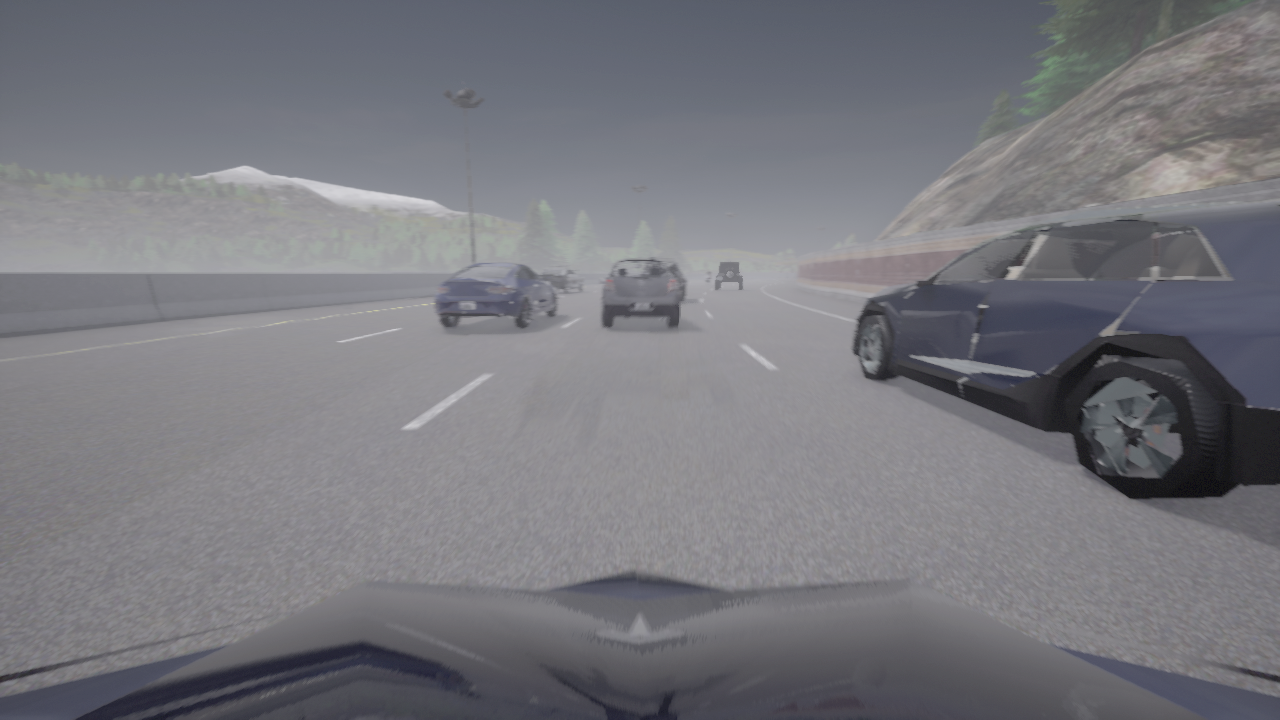cyclist: (0, 569, 1279, 719), (850, 200, 1279, 499), (434, 262, 562, 328), (600, 259, 679, 328), (650, 257, 685, 302), (538, 265, 583, 293), (714, 261, 743, 290)
